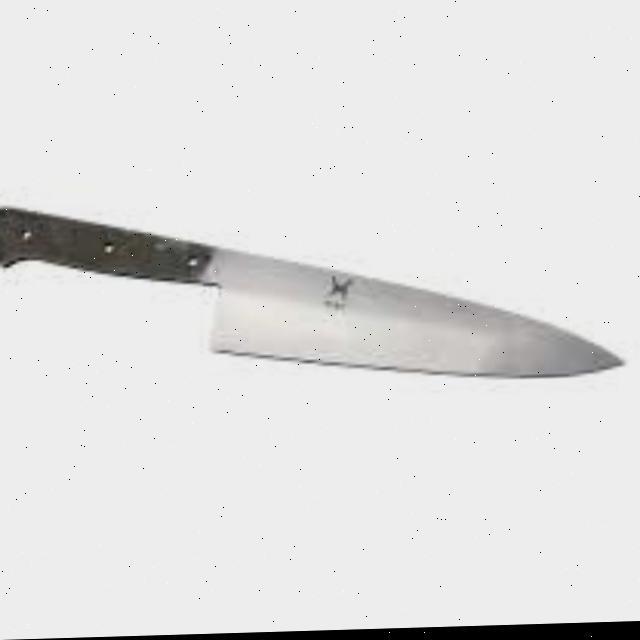knife: (0, 188, 628, 393)
